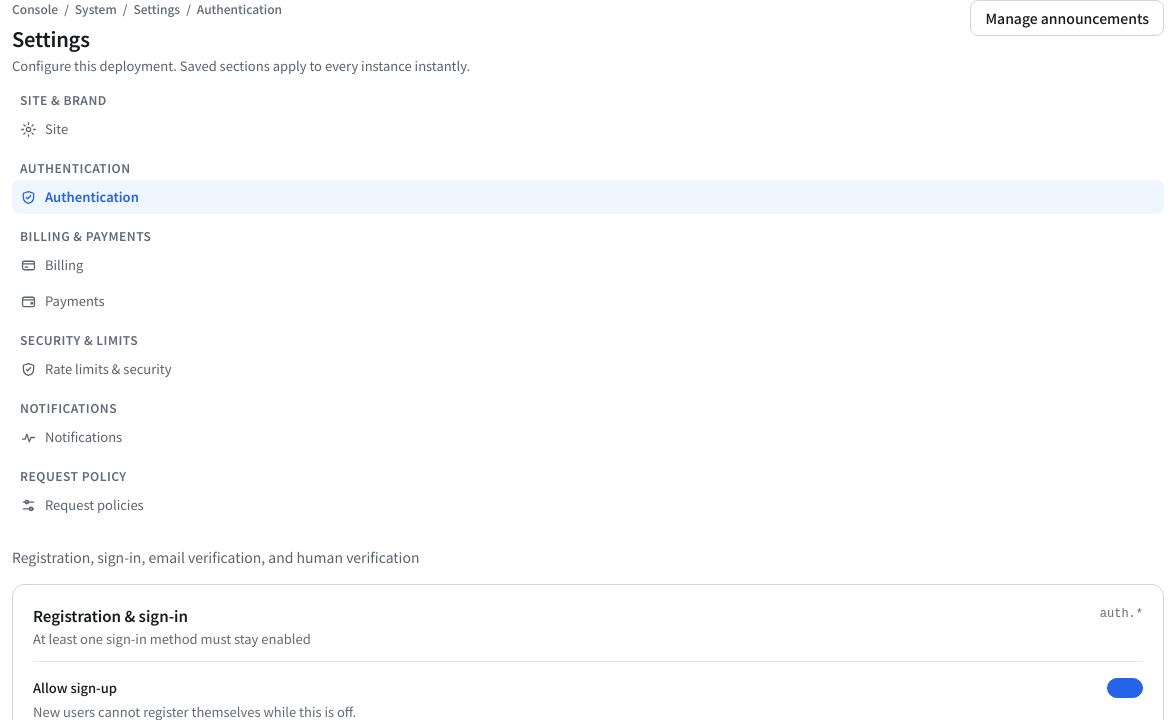
Test: SettingsShell contract › blocks turning off both sign-in methods (F5)
Click the switch labelled "Allow sign-up" at (1125, 688), box [1107,678,1143,698]
(page scrolled)
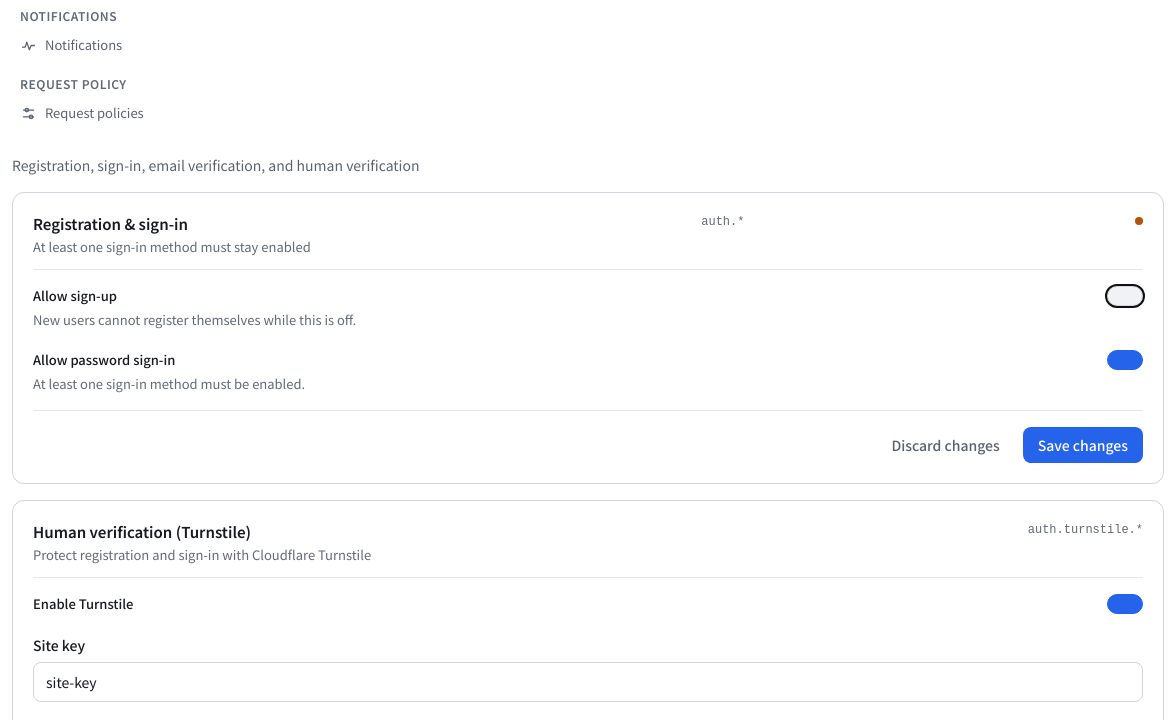
Click the switch labelled "Allow password sign-in" at (1125, 360), box [1107,350,1143,370]
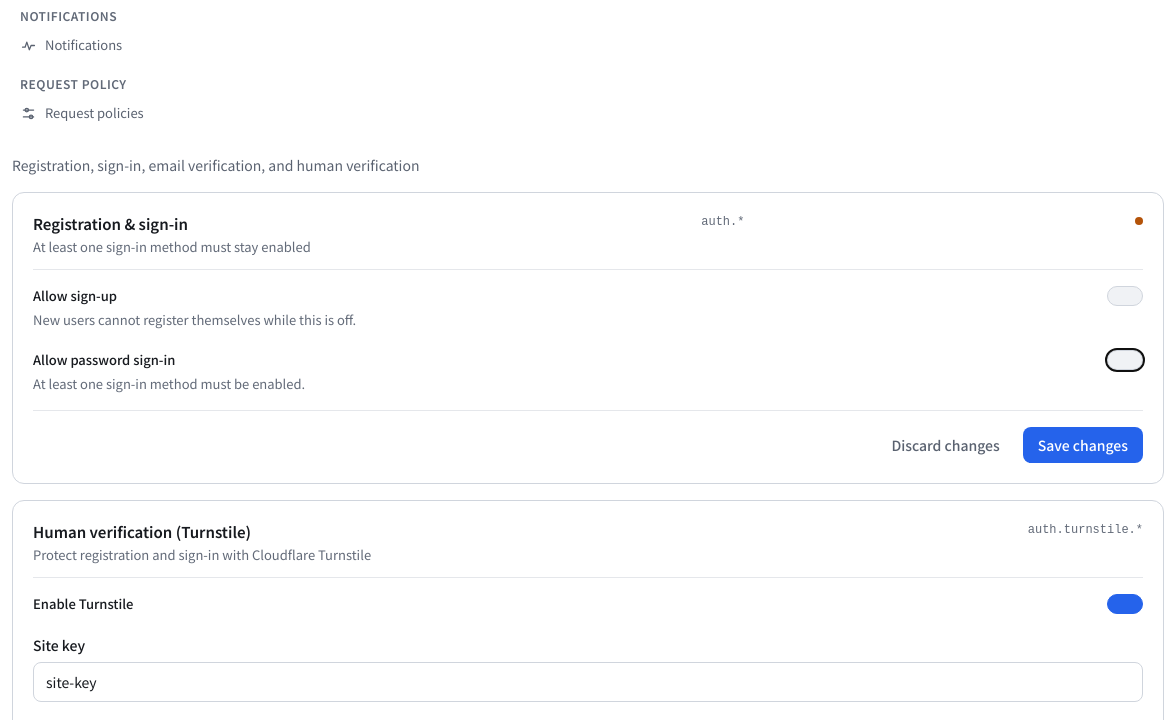
Click the button "Save changes" at (1083, 445), box [1023,427,1143,463]
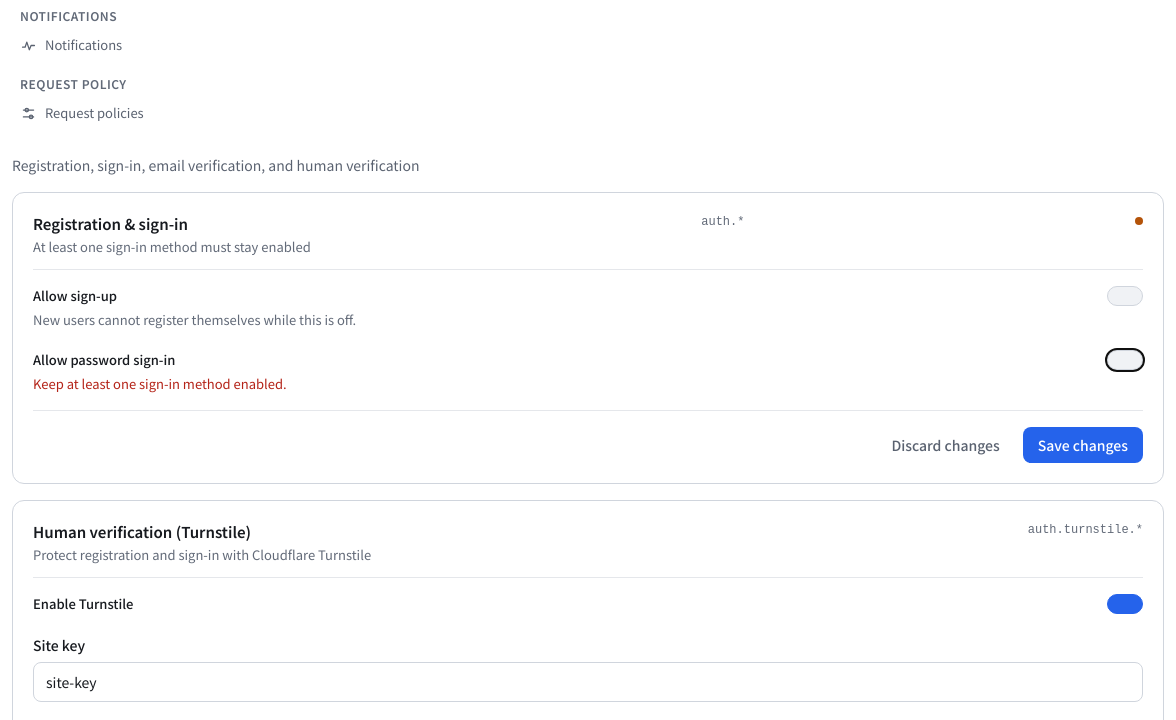
Now the text "Keep at least one sign-in method enabled." is shown, box [33,374,287,393]
